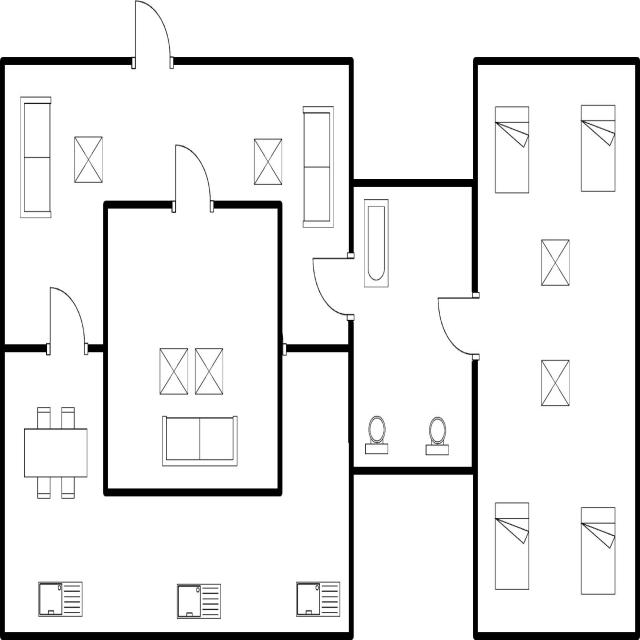bed: (490, 498, 534, 598), (576, 502, 618, 603), (491, 100, 532, 199), (578, 98, 618, 198)
coffee_table: (155, 342, 192, 403), (537, 352, 573, 412), (68, 130, 105, 188), (536, 234, 572, 291), (251, 134, 286, 192), (192, 342, 225, 399)
dining_table: (21, 400, 89, 508)
large_sink: (420, 411, 450, 460), (360, 411, 391, 458)
large_sofa: (158, 409, 242, 473), (299, 100, 337, 232), (17, 90, 53, 225)
sink: (173, 576, 225, 623), (35, 576, 86, 622), (293, 576, 343, 622)
tub: (360, 194, 392, 292)
